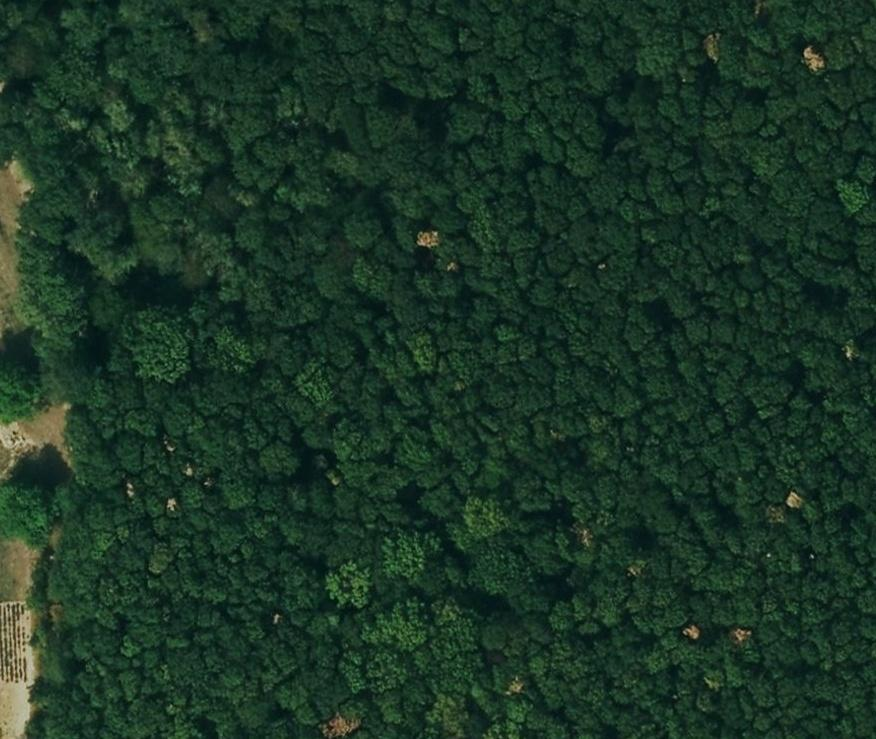forest: (0, 0, 876, 737)
